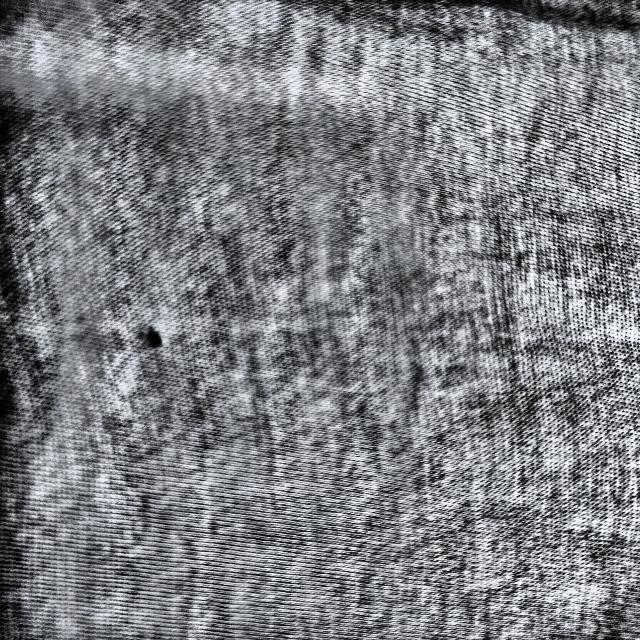cut: (124, 314, 180, 358)
